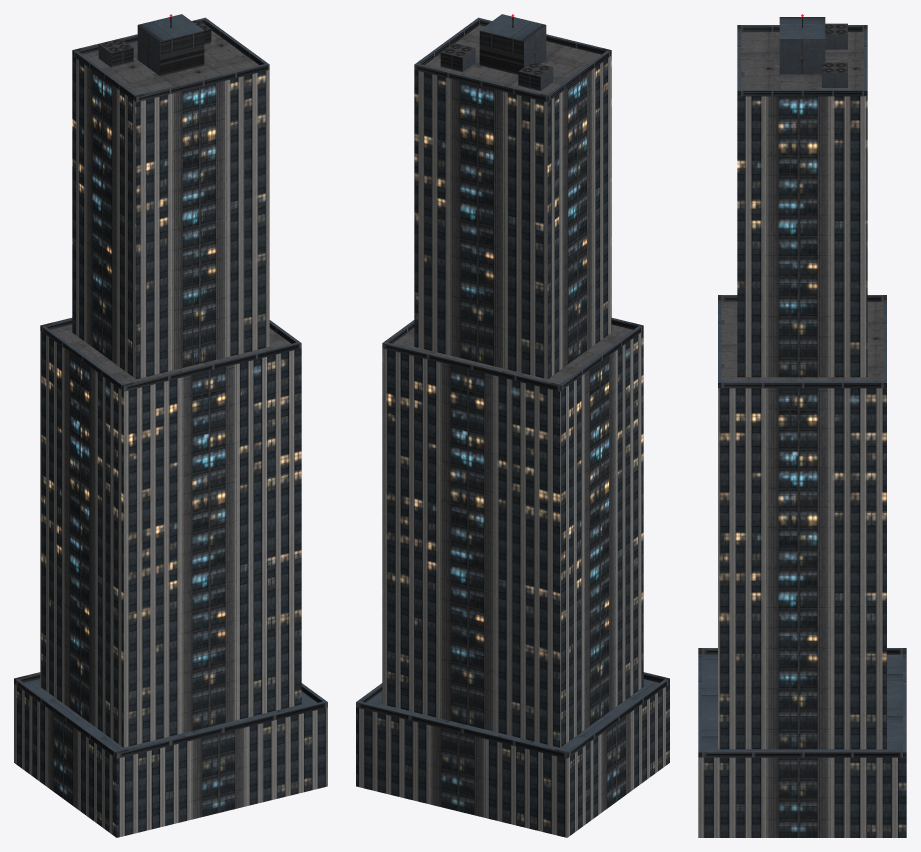
The model's file is commercial-slim-tower-01.glb.
3 renders of one model, left to right at view 1: azimuth 30°, elevation 25°; view 2: azimuth 150°, elevation 25°; view 3: azimuth 270°, elevation 25°, orthographic.
Visible parts, largest first — view 1: commercial-slim-tower-01; view 2: commercial-slim-tower-01; view 3: commercial-slim-tower-01.
Part boxes in pixels (x1,y1,x2,y2): commercial-slim-tower-01: (14,14,327,837); commercial-slim-tower-01: (356,14,669,837); commercial-slim-tower-01: (698,14,906,837).
Bounding box in the file's own units: 38 × 131 × 32.
Materials: 1 (1 with a texture image).
